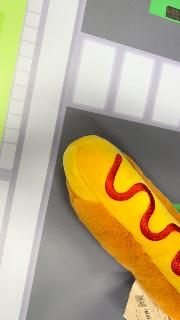hotdog: (63, 134, 180, 320)
